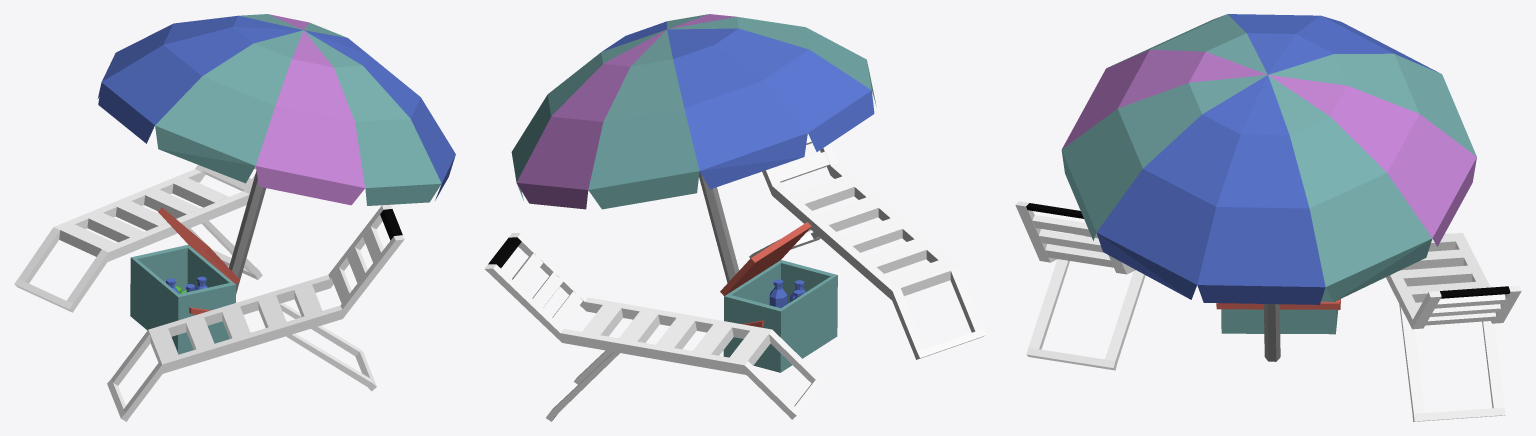
File: umbrellaSdraio2.gltf
3 views of the same model, side by side, from view 1: azimuth 30°, elevation 25°; view 2: azimuth 150°, elevation 25°; view 3: azimuth 270°, elevation 25° (orthographic). The views are drawn at different scales.
Parts seen in each view (by area): view 1: LightBlue-material.006, Blue-material.005, Pink-material.001, White-material.003, LightBlue-material.005, White-material.002, LB2-material, LB2-material.001, Gray-material.003, Red-material.005; view 2: Blue-material.005, LightBlue-material.006, White-material.002, Pink-material.001, LightBlue-material.005, White-material.003, LB2-material.001, LB2-material, Red-material.005, Gray-material.003, Blue-material.004; view 3: Blue-material.005, LightBlue-material.006, Pink-material.001, White-material.002, White-material.003, LB2-material, LightBlue-material.005, LB2-material.001, Gray-material.003, Red-material.005.
Part boxes in pixels (x1,y1,x2,y2): LightBlue-material.006: (155, 14, 441, 205); Blue-material.005: (97, 15, 455, 200); Pink-material.001: (256, 14, 365, 205); White-material.003: (107, 204, 404, 421); LightBlue-material.005: (130, 244, 235, 354); White-material.002: (14, 165, 262, 312); LB2-material: (59, 166, 256, 256); LB2-material.001: (150, 227, 383, 362); Gray-material.003: (229, 170, 266, 294); Red-material.005: (158, 207, 239, 314); Blue-material.005: (602, 21, 874, 189); LightBlue-material.006: (511, 14, 876, 209); White-material.002: (484, 233, 823, 421); Pink-material.001: (516, 14, 736, 209); LightBlue-material.005: (723, 260, 837, 372); White-material.003: (749, 143, 986, 359); LB2-material.001: (775, 134, 951, 296); LB2-material: (512, 253, 770, 365); Red-material.005: (720, 222, 811, 327); Gray-material.003: (699, 171, 739, 282); Blue-material.004: (769, 279, 805, 308); Blue-material.005: (1096, 14, 1438, 304); LightBlue-material.006: (1061, 14, 1476, 301); Pink-material.001: (1062, 49, 1476, 246); White-material.002: (1386, 233, 1521, 421); White-material.003: (1015, 201, 1145, 370); LB2-material: (1399, 233, 1505, 325); LightBlue-material.005: (1221, 287, 1338, 334); LB2-material.001: (1032, 215, 1113, 267); Gray-material.003: (1264, 304, 1280, 361); Red-material.005: (1216, 299, 1340, 309).
Size of the model in its own units: 17.78 by 14.3 by 18.91.
